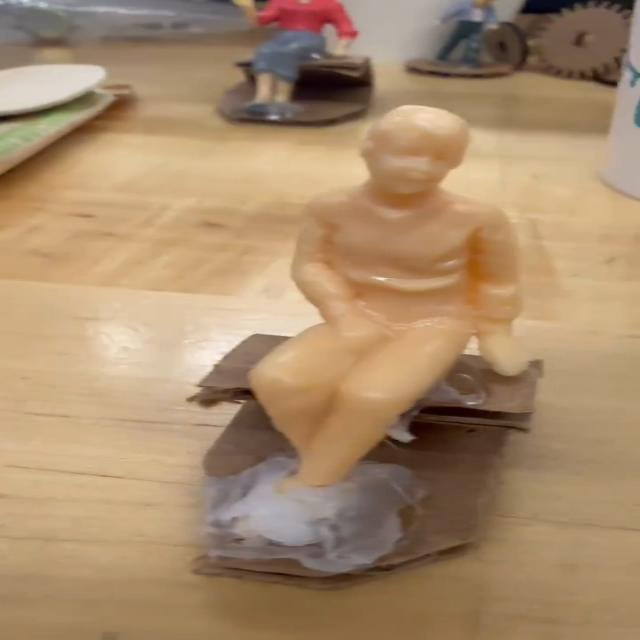Unauthorized: (229, 85, 551, 557)
